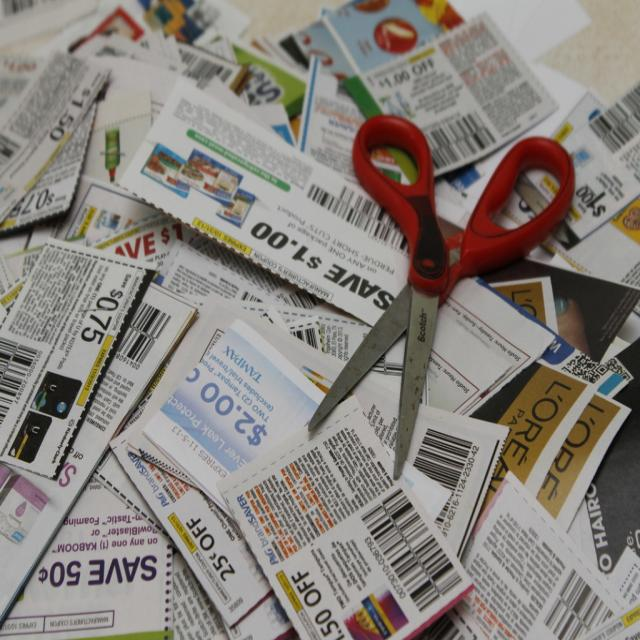scissors: (306, 113, 575, 480)
